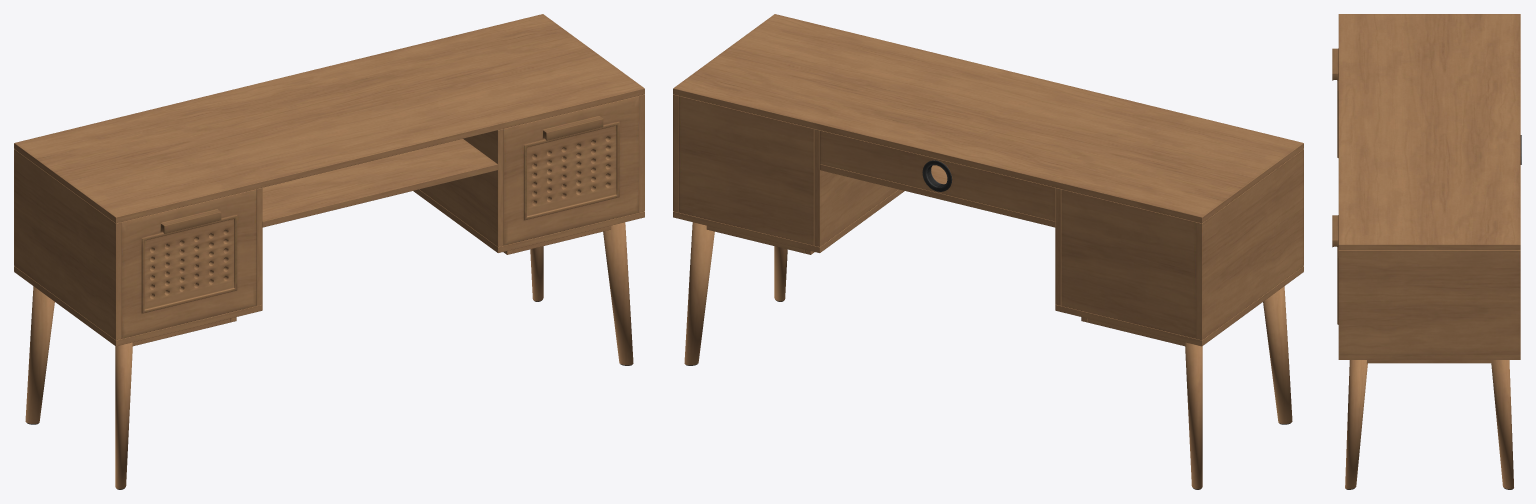
File: desk.glb
3 views of the same model, side by side, from view 1: azimuth 30°, elevation 25°; view 2: azimuth 150°, elevation 25°; view 3: azimuth 270°, elevation 25° (orthographic). The views are drawn at different scales.
Visible parts, largest first — view 1: Desk, Drawers; view 2: Desk; view 3: Desk, Drawers.
Boxes of the visible parts, x1,y1,x2,y2 form: Desk: [14, 14, 644, 489]; Drawers: [121, 96, 638, 338]; Desk: [673, 14, 1303, 489]; Desk: [1338, 14, 1521, 489]; Drawers: [1332, 48, 1338, 324].
Bounding box in the file's own units: 1.84 × 0.9245 × 0.6396.
Materials: 2 (1 with a texture image).
